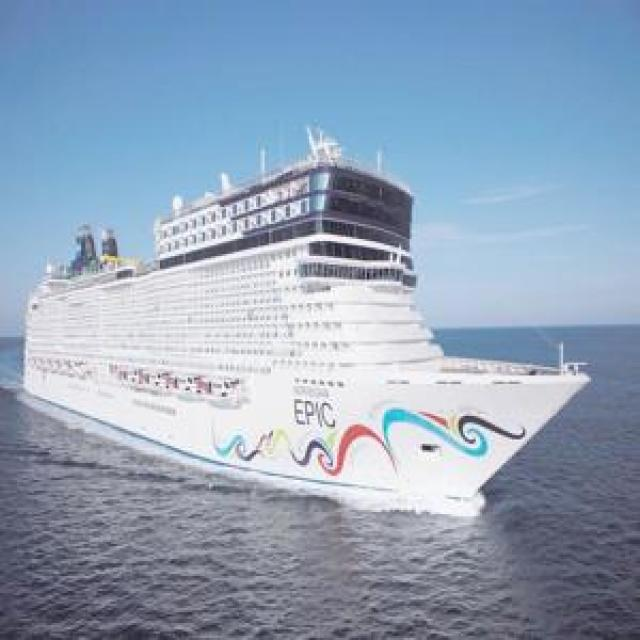passenger ship: (19, 127, 604, 532)
